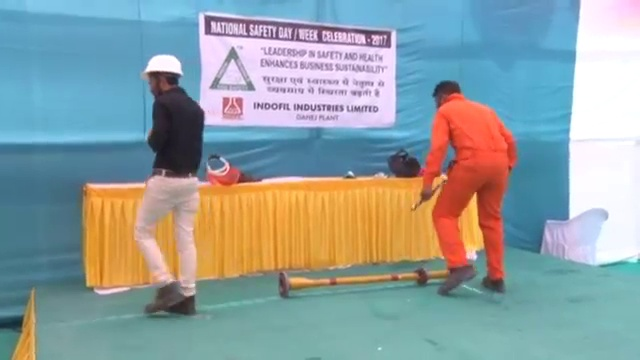helmet: (141, 53, 182, 78)
helmet_off: (430, 79, 461, 108)
helmet_on: (140, 53, 184, 98)
person: (422, 77, 518, 294), (135, 52, 205, 320)
